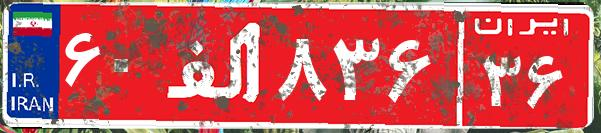0: (110, 28, 158, 105)
3: (330, 28, 385, 110), (475, 38, 525, 113)
6: (385, 28, 445, 110), (57, 26, 110, 107), (525, 38, 570, 115)
8: (273, 28, 330, 110)
الف: (158, 15, 273, 115)
